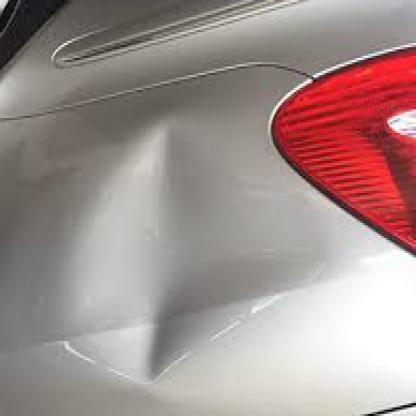dent: (73, 120, 186, 388), (196, 244, 324, 350)
